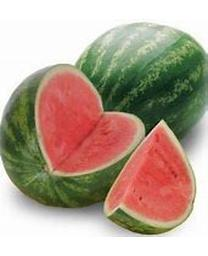watermelon: (2, 63, 148, 207), (71, 22, 207, 142), (99, 119, 197, 236)
